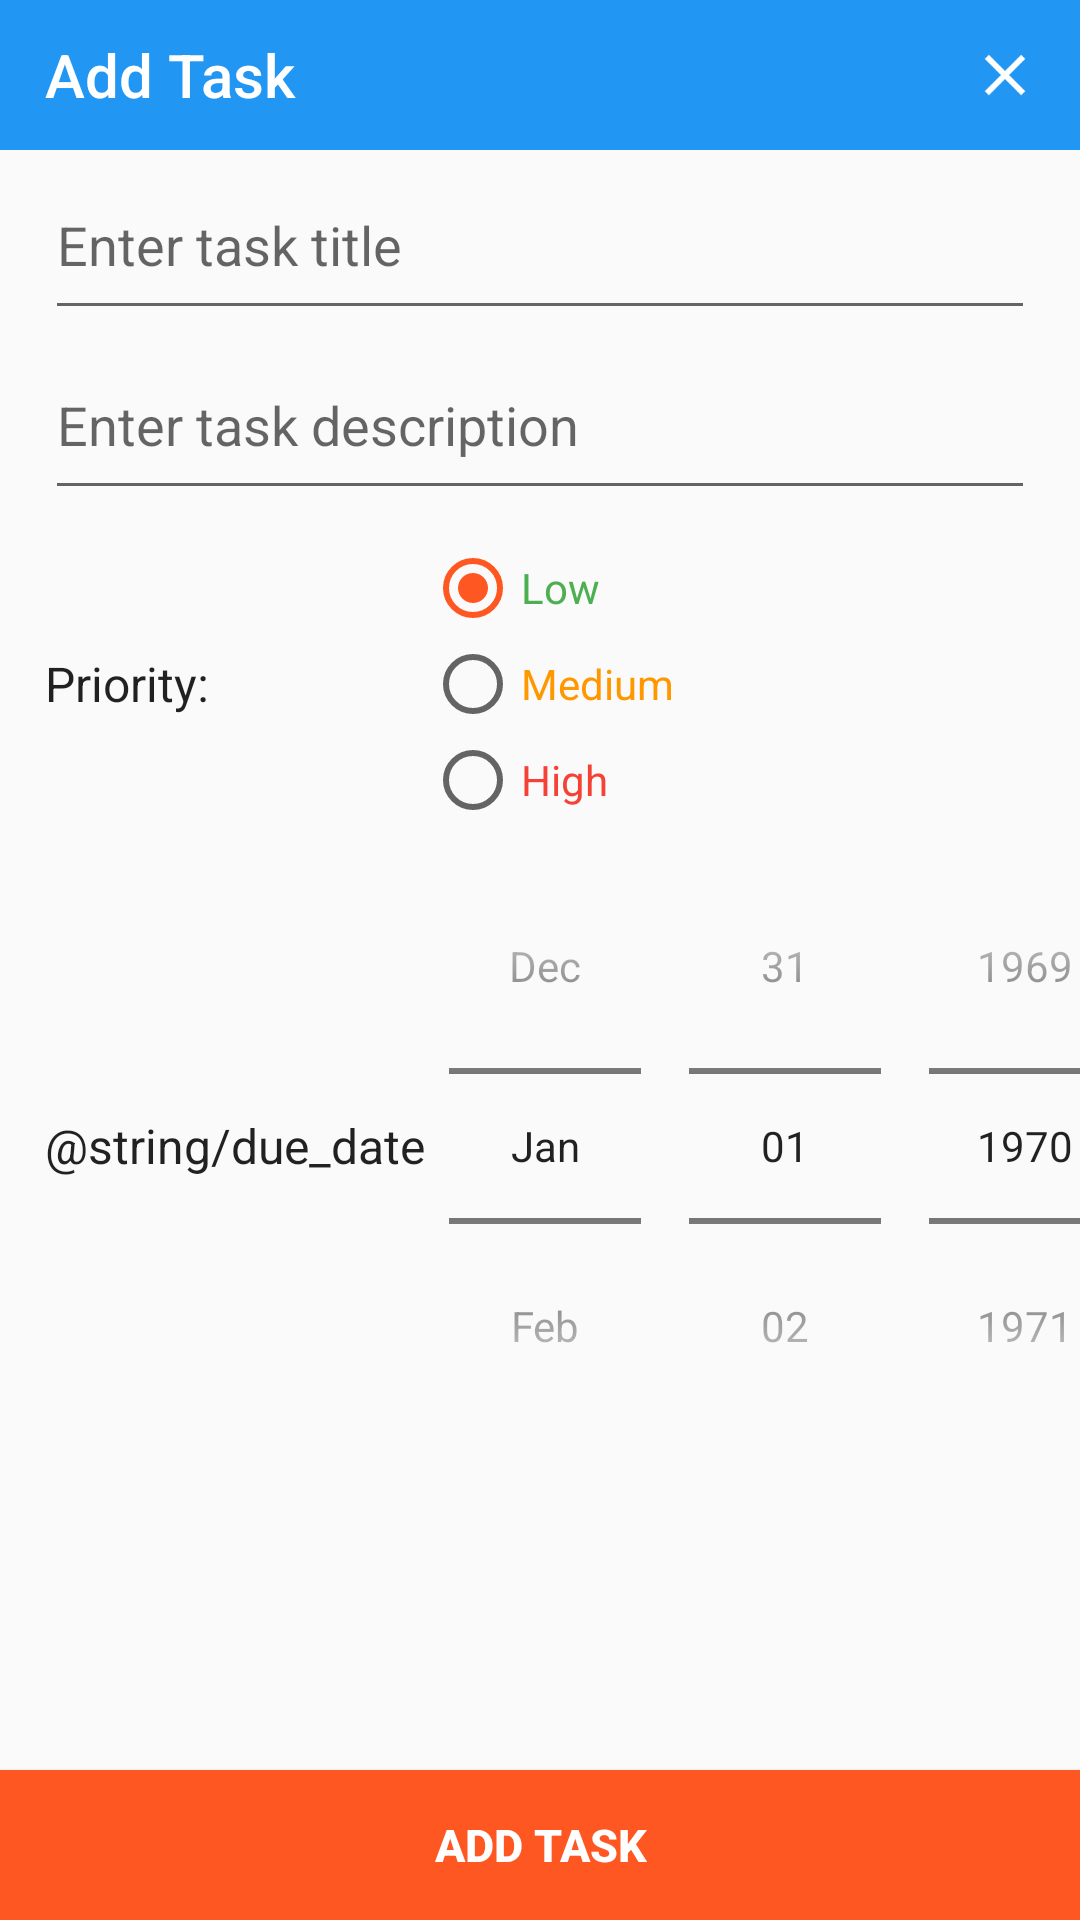

Where icons sit on this 1080px×1920px app screen, as (x1, y1, x2, y2):
close: (985, 55, 1026, 96)
